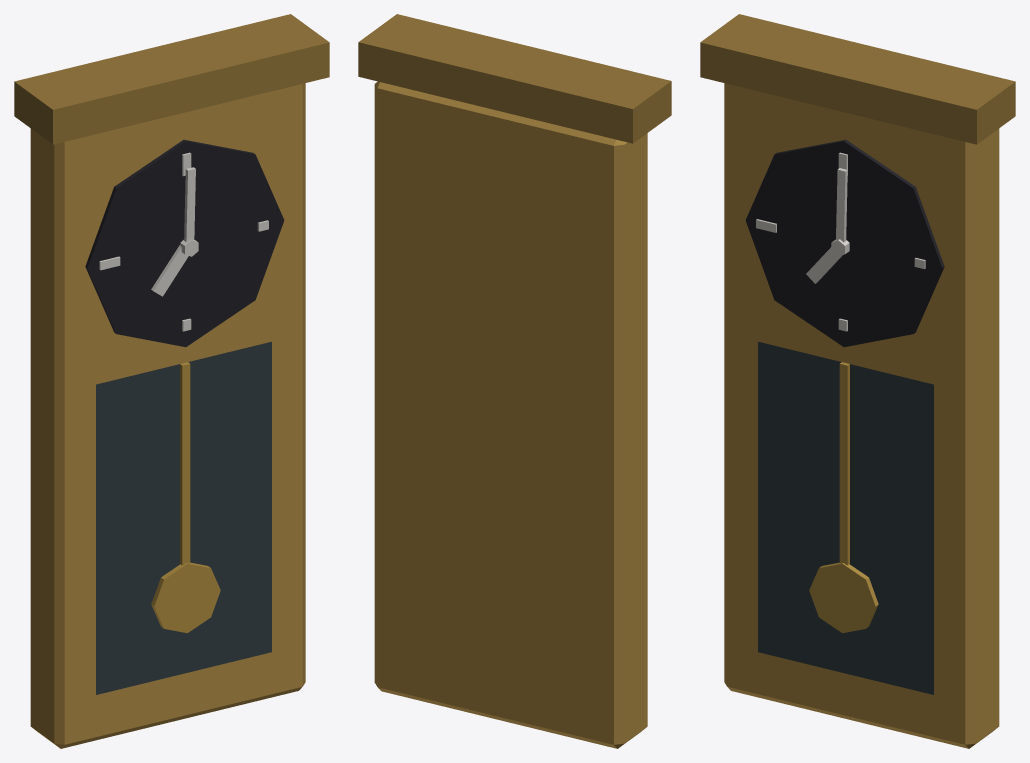
The model's file is wall-clock-27.glb.
The picture shows the model from 3 angles, left to right: view 1: azimuth 30°, elevation 25°; view 2: azimuth 150°, elevation 25°; view 3: azimuth 330°, elevation 25°; orthographic projection.
Visible parts, largest first — view 1: wall_clock_27; view 2: wall_clock_27; view 3: wall_clock_27.
Part boxes in pixels (x1=…): wall_clock_27: x1=14, y1=14, x2=329, y2=748; wall_clock_27: x1=358, y1=14, x2=671, y2=748; wall_clock_27: x1=700, y1=14, x2=1015, y2=748.
Bounding box in the file's own units: 0.4162 × 0.9376 × 0.1022.
